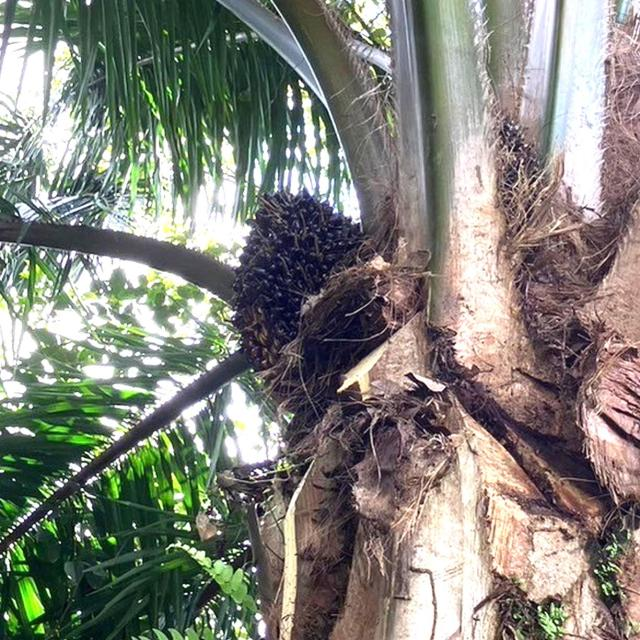unripe: (228, 190, 369, 402)
